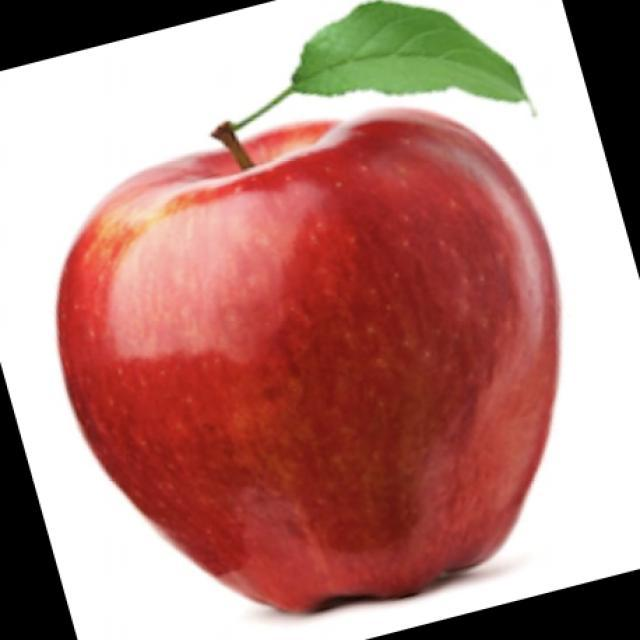Fresh Apple: (53, 111, 560, 619)
